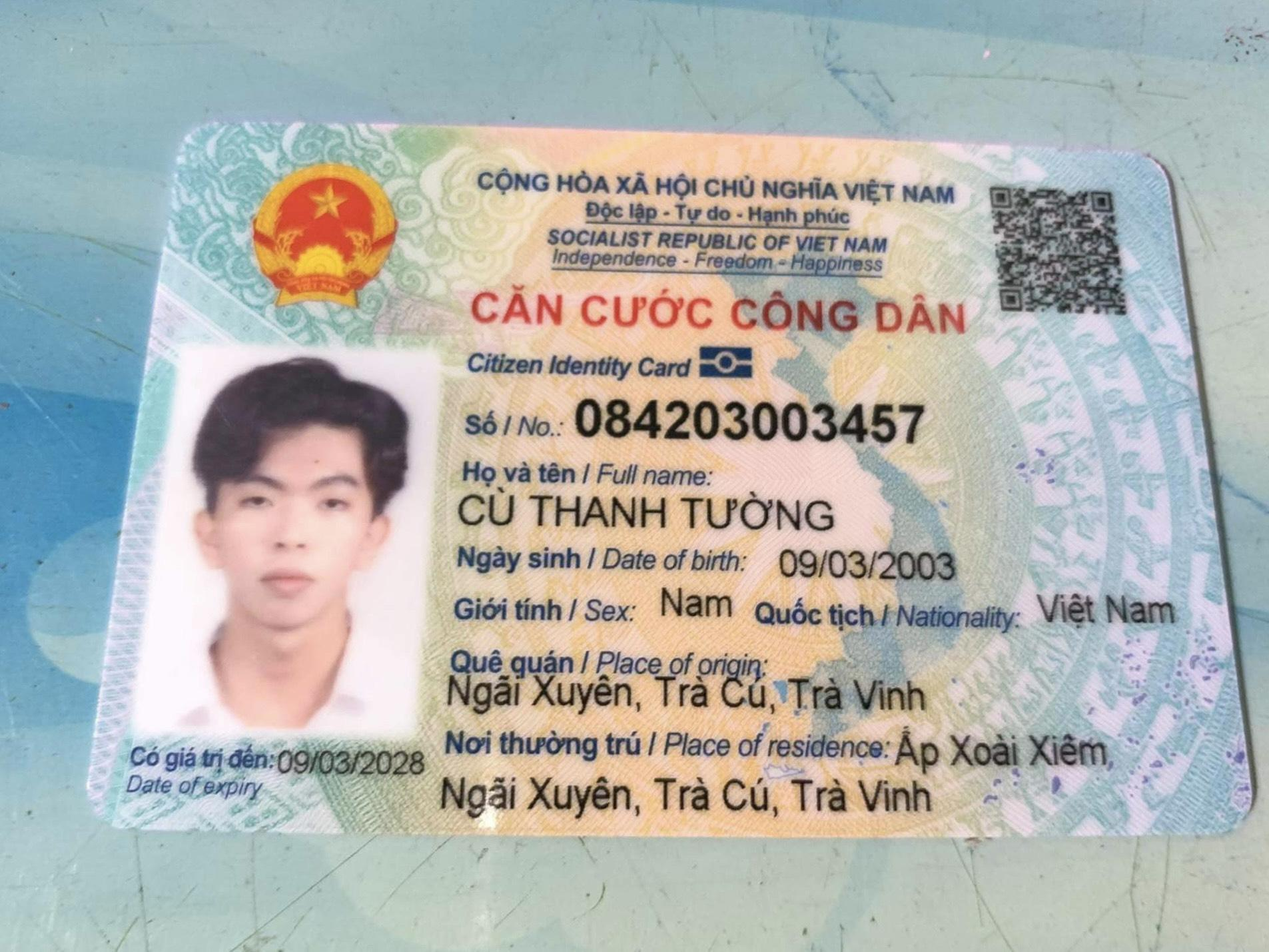ID: (566, 383, 935, 457)
birth: (764, 544, 969, 595)
name: (449, 484, 852, 544)
place: (431, 673, 931, 722)
residence: (435, 764, 938, 835), (886, 718, 1121, 778)
